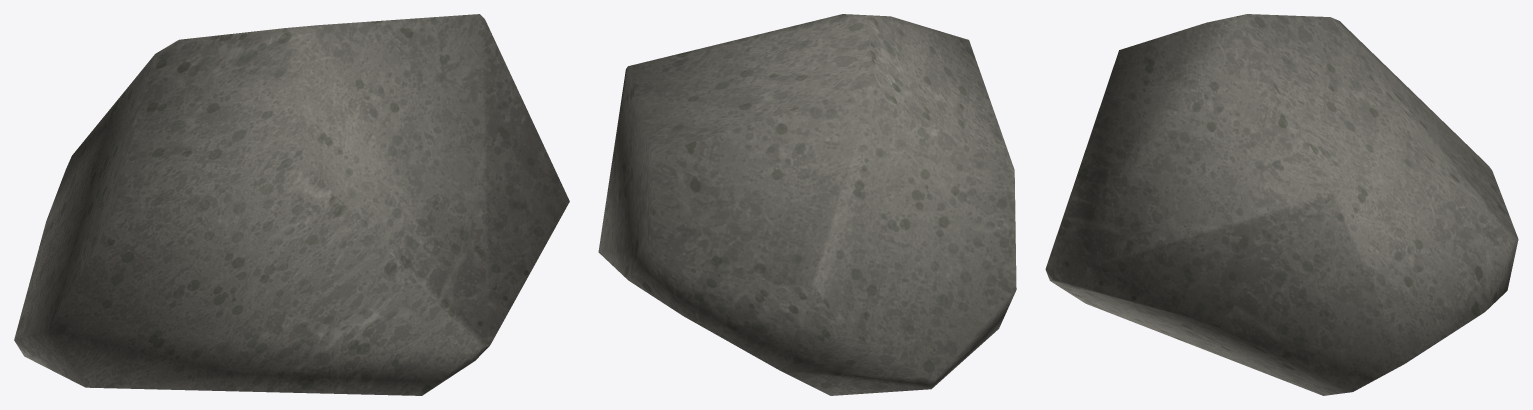
Rendered from rock1.fbx.
3 renders of one model, left to right at view 1: azimuth 30°, elevation 25°; view 2: azimuth 150°, elevation 25°; view 3: azimuth 270°, elevation 25°, orthographic. The views are drawn at different scales.
Parts seen in each view (by area): view 1: rock; view 2: rock; view 3: rock.
Boxes of the visible parts, x1=… form: rock: x1=14, y1=14, x2=569, y2=395; rock: x1=598, y1=14, x2=1016, y2=395; rock: x1=1045, y1=14, x2=1518, y2=395.
Bounding box in the file's own units: 376 × 277 × 370.
